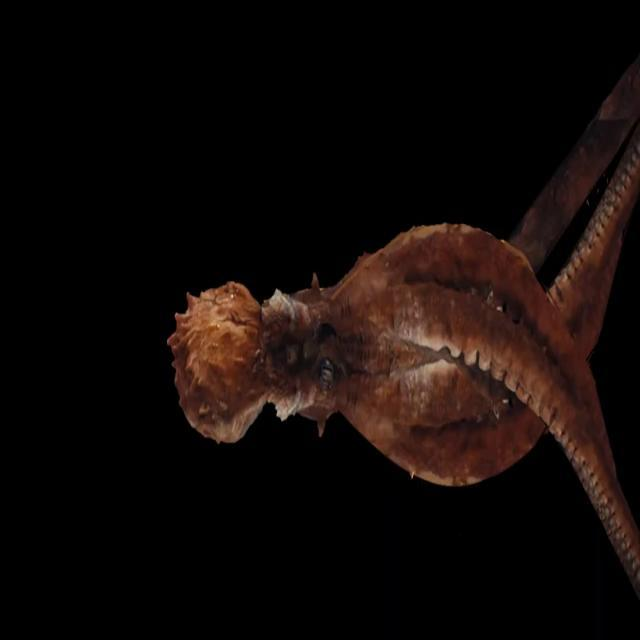octopus: (165, 44, 640, 594)
